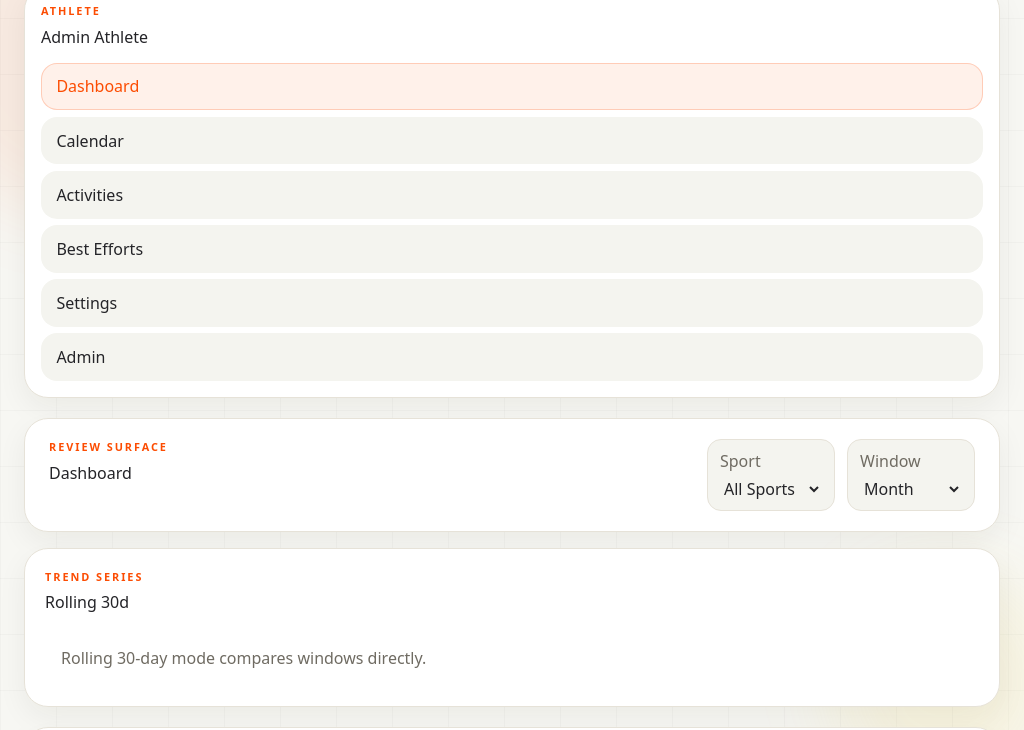
Test case: App › shows the admin page only for the admin athlete and lets them reject a user
The image size is (1024, 730).
Check: the heading "Dashboard" is shown, box [49, 462, 132, 484]
Click the button "Admin": [81, 357] box [41, 333, 983, 381]
(page scrolled)
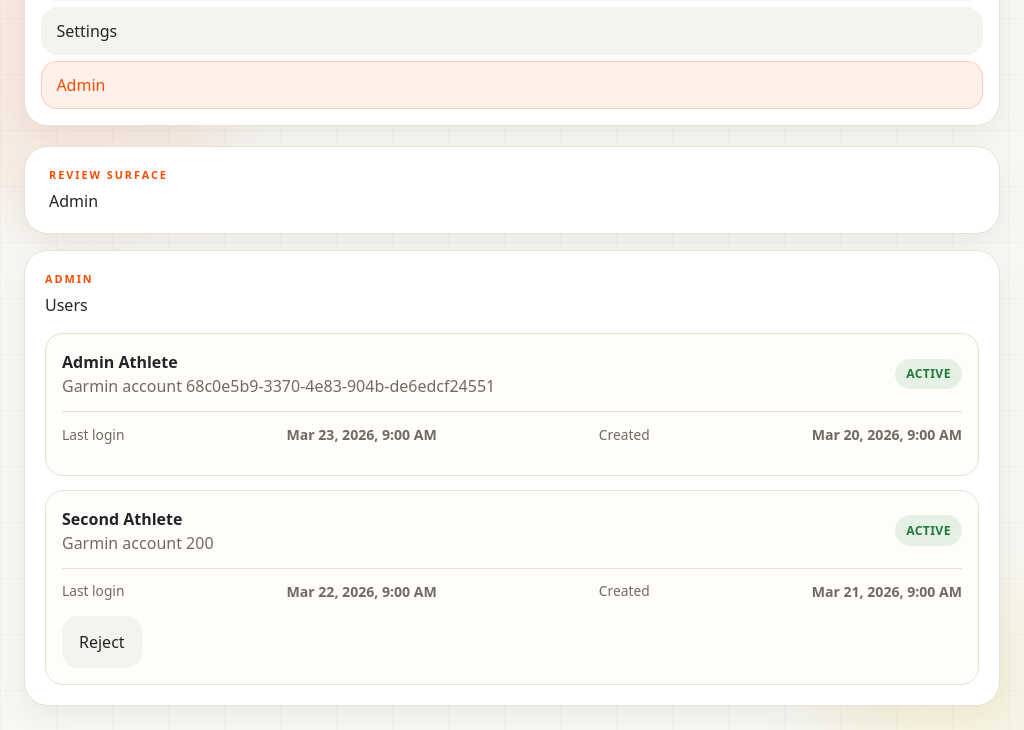
Check: the number of buttons "Admin" is 1, box [41, 61, 983, 109]
Check: the text "Second Athlete" is shown, box [62, 508, 182, 530]
Click the button "Reject": [102, 642] box [62, 616, 142, 668]
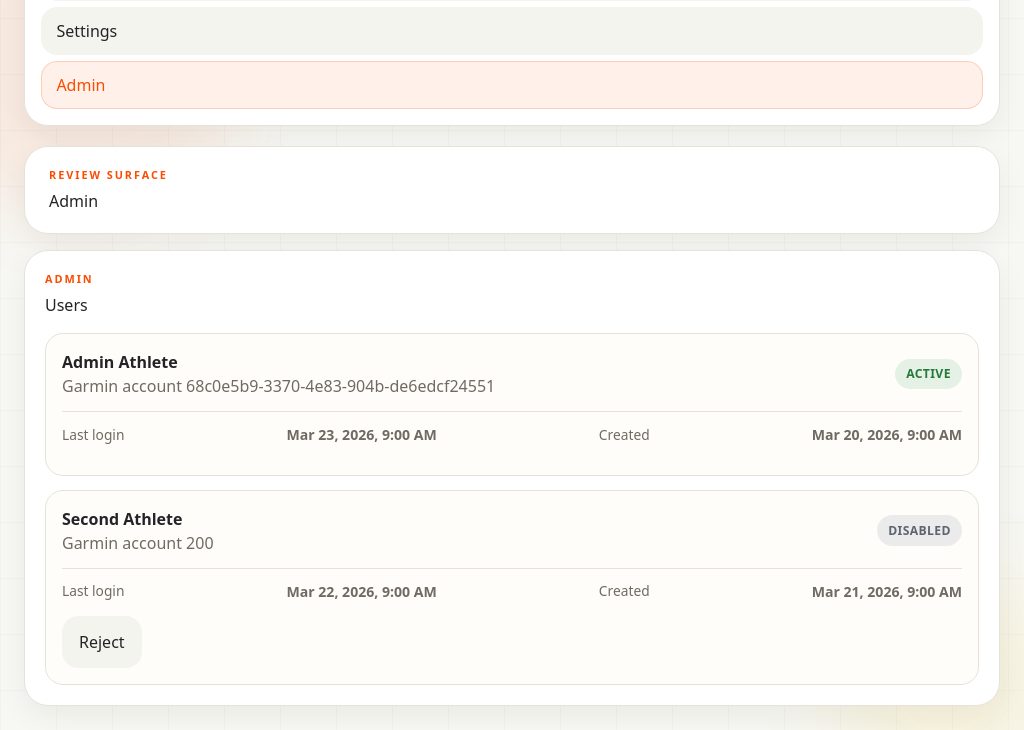
Check: the text "Disabled" is shown, box [877, 516, 962, 546]
